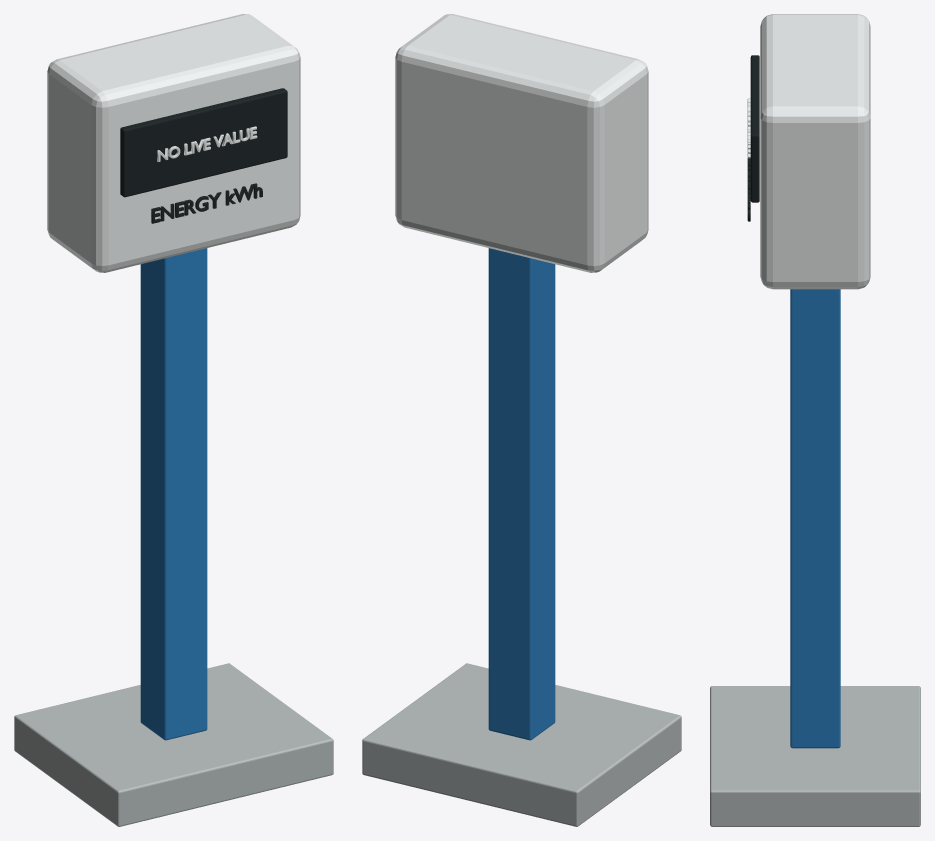
The model's file is energy_meter.glb.
3 renders of one model, left to right at view 1: azimuth 30°, elevation 25°; view 2: azimuth 150°, elevation 25°; view 3: azimuth 270°, elevation 25°, orthographic.
Parts seen in each view (by area): view 1: METER_enclosure, METER_pedestal, METER_base, METER_screen, METER_label, METER_static_legend; view 2: METER_enclosure, METER_pedestal, METER_base; view 3: METER_enclosure, METER_base, METER_pedestal, METER_screen.
Boxes of the visible parts, bbox=[...] form: METER_enclosure: bbox=[47, 14, 300, 272]; METER_pedestal: bbox=[140, 248, 207, 740]; METER_base: bbox=[14, 663, 333, 826]; METER_screen: bbox=[120, 88, 287, 197]; METER_label: bbox=[151, 183, 262, 223]; METER_static_legend: bbox=[157, 126, 257, 162]; METER_enclosure: bbox=[395, 14, 648, 272]; METER_pedestal: bbox=[488, 248, 555, 740]; METER_base: bbox=[362, 663, 681, 826]; METER_enclosure: bbox=[760, 14, 870, 289]; METER_base: bbox=[710, 686, 920, 826]; METER_pedestal: bbox=[790, 289, 840, 748]; METER_screen: bbox=[750, 55, 759, 202].
Size of the model in its own units: 0.5 by 1.57 by 0.42.
